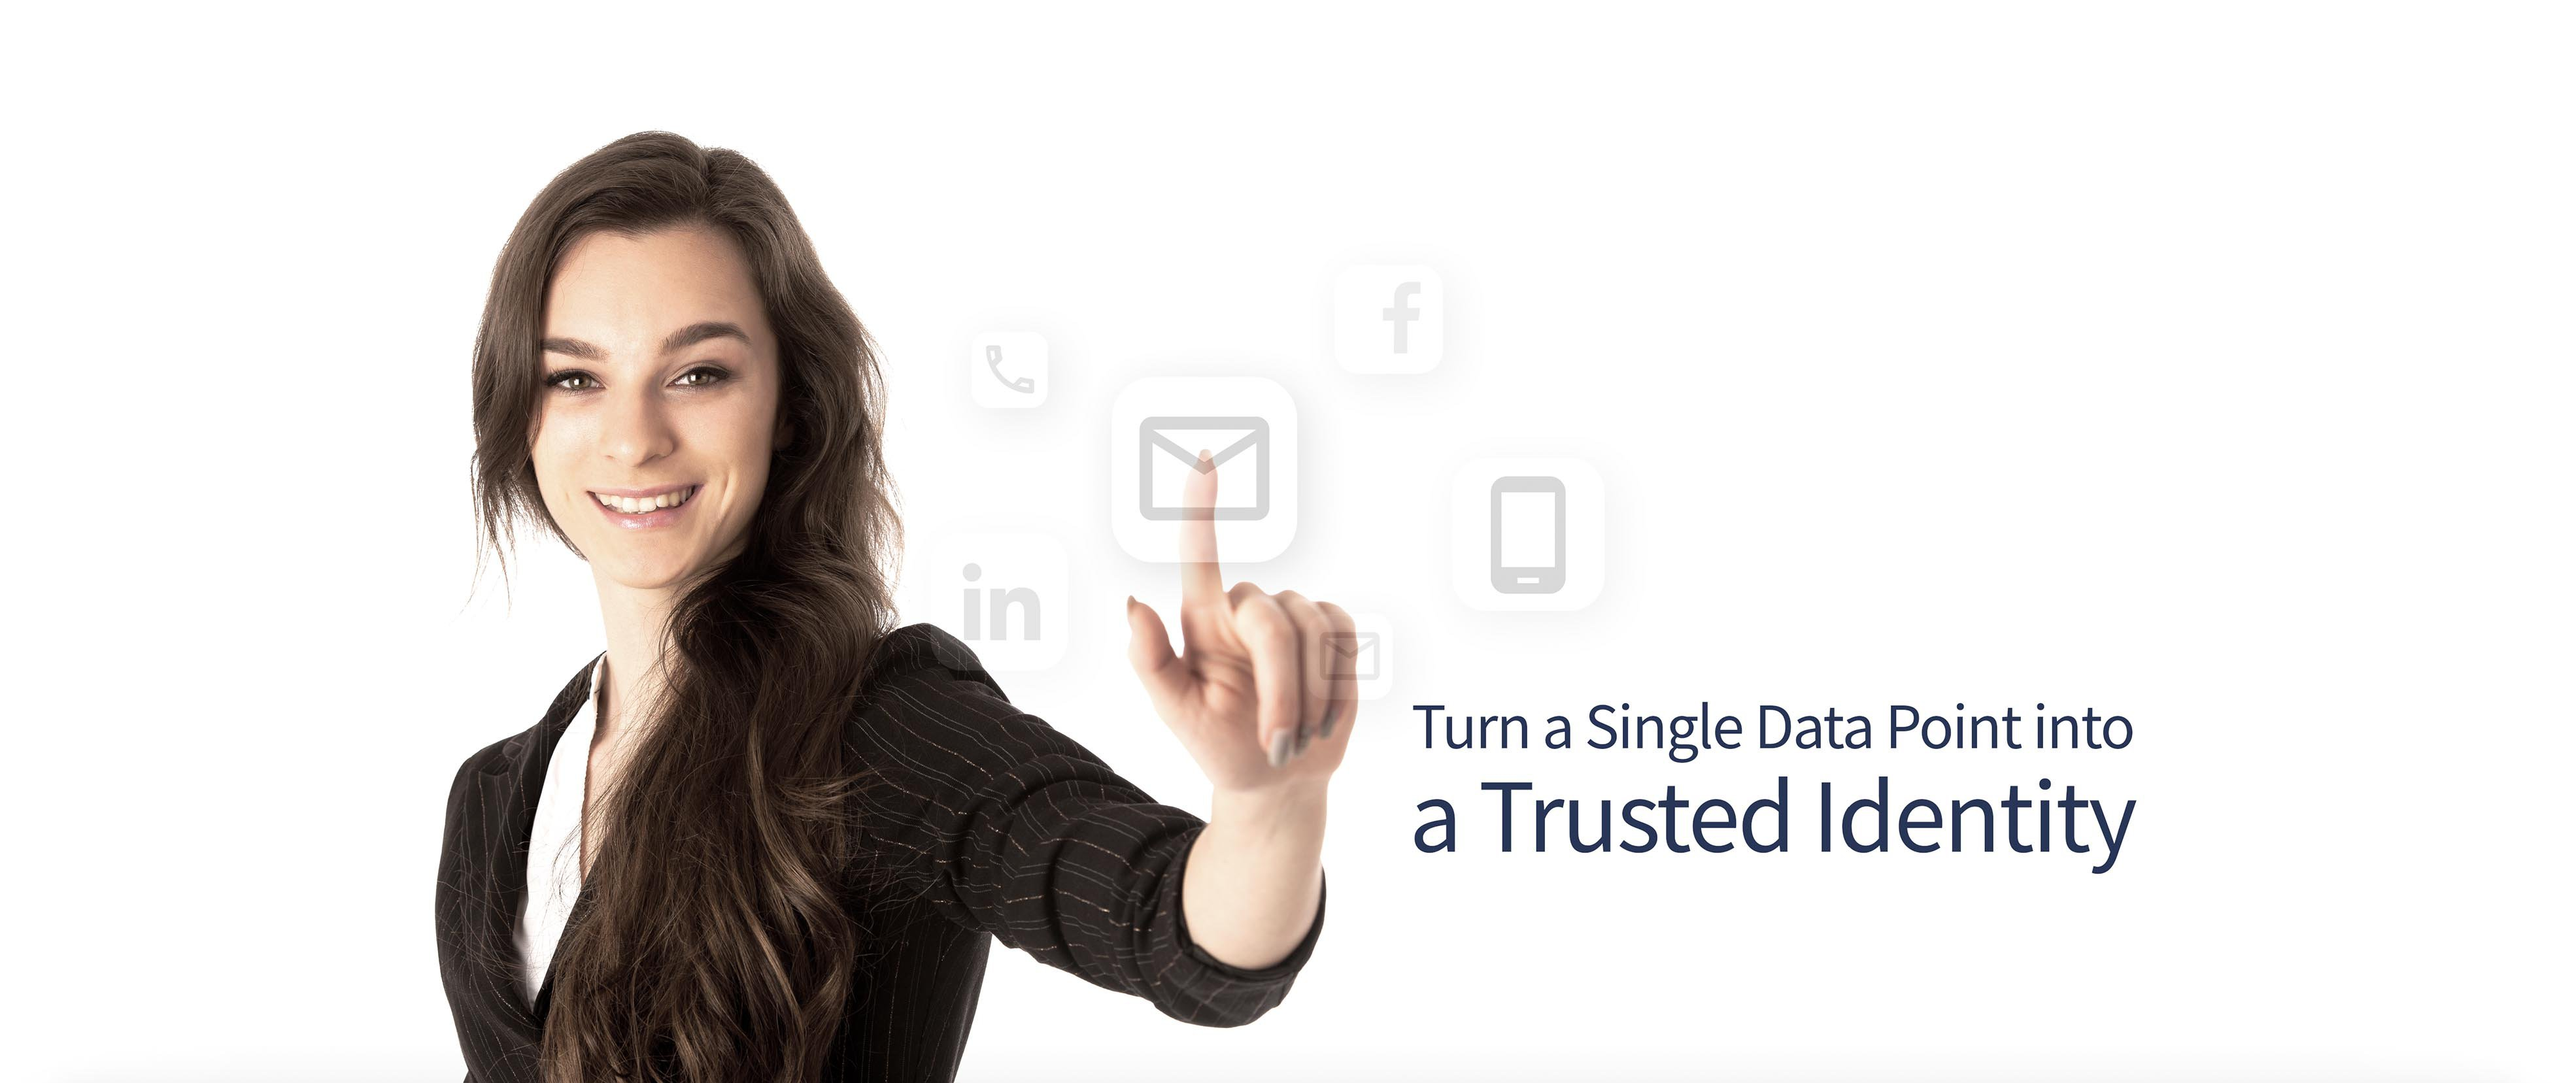noMask: (444, 110, 869, 601)
